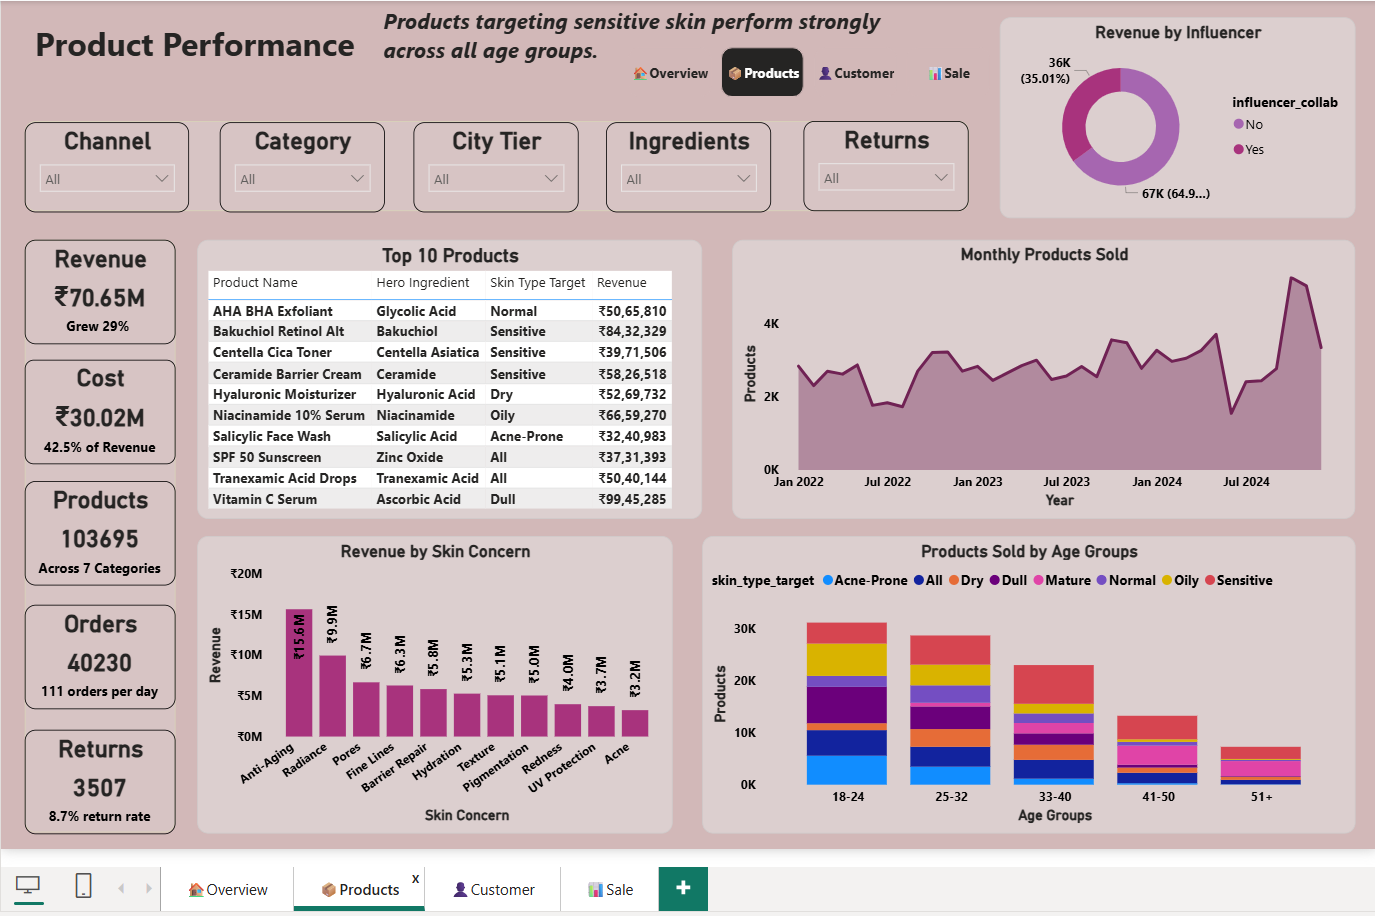

What the dashboard file says about the page in this screenshot:
{"tool":"powerbi","page":{"name":"📦Products","canvas":[1380,850],"ordinal":1},"visuals":[{"type":"areaChart","title":"Monthly Products Sold","fields":{"Y":["Measure_Analysis.Products"],"Category":["Skincare.order_date.Variation.Date Hierarchy.Year","Skincare.order_date.Variation.Date Hierarchy.Month"]},"box":[733.3,240,625,280],"z":0},{"type":"shape","box":[23.7,239.7,150.9,594.7],"z":1000},{"type":"columnChart","title":"Products Sold by Age Groups","fields":{"Category":["Skincare.age_bracket"],"Y":["Sum(Skincare.units_sold)"],"Series":["Skincare.skin_type_target"]},"box":[703.3,536.7,655,298.3],"z":2000},{"type":"donutChart","title":"Revenue by Influencer","fields":{"Category":["Skincare.influencer_collab"],"Y":["Measure_Analysis.Products"]},"box":[1002,16.9,356.5,201.3],"z":3000},{"type":"tableEx","title":"Top 10 Products ","fields":{"Values":["Skincare.product_name","Skincare.hero_ingredient","Skincare.skin_type_target","Measure_Analysis.Revenue"]},"box":[196.7,240,506.7,280],"z":4000},{"type":"lineClusteredColumnComboChart","title":"Revenue by Skin Concern","fields":{"Category":["Skincare.concern_addressed"],"Y":["Measure_Analysis.Revenue"]},"box":[196.7,536.7,476.7,298.3],"z":5000},{"type":"textbox","box":[23.8,16.3,341,80.2],"z":6000},{"type":"shape","box":[23.7,119.8,946.8,90.2],"z":7000},{"type":"slicer","title":"Channel","fields":{"Values":["Skincare.channel"]},"box":[23.7,122,165,90.2],"z":8000},{"type":"slicer","title":"Category","fields":{"Values":["Skincare.category"]},"box":[219,121.3,165.7,90.2],"z":9000},{"type":"slicer","title":"City Tier","fields":{"Values":["Skincare.city_tier"]},"box":[414.2,121.3,165.7,90.2],"z":10000},{"type":"slicer","title":"Ingredients","fields":{"Values":["Skincare.hero_ingredient"]},"box":[606.6,121.3,165.7,90.2],"z":11000},{"type":"slicer","title":"Returns","fields":{"Values":["Skincare.return_flag"]},"box":[804.8,119.8,165.7,90.2],"z":12000},{"type":"pageNavigator","box":[629.3,46.4,362.3,50.1],"z":13000},{"type":"card","title":"Returns","fields":{"Values":["Measure_Analysis.Returns"]},"box":[23.7,730.8,150.9,105],"z":14000},{"type":"card","title":"Orders","fields":{"Values":["Measure_Analysis.Orders"]},"box":[23.7,605.1,150.9,105],"z":15000},{"type":"card","title":"Products","fields":{"Values":["Measure_Analysis.Products"]},"box":[23.7,480.8,150.9,105],"z":16000},{"type":"card","title":"Cost","fields":{"Values":["Measure_Analysis.Cost"]},"box":[23.7,359.5,150.9,105],"z":17000},{"type":"card","title":"Revenue","fields":{"Values":["Measure_Analysis.Revenue"]},"box":[23.7,239.7,150.9,105],"z":18000},{"type":"textbox","box":[378.6,0,531.5,71.5],"z":19000}]}

Visuals, with their boxes on the page's 1380x850 design canvas (x1, y1, x2, y2). These are canvas units, not pixel positions in the 1375x916 screenshot, which may show the page scaled, cropped or inside an application window:
"Monthly Products Sold" areaChart: rect(733, 240, 1358, 520)
shape: rect(24, 240, 175, 834)
"Products Sold by Age Groups" columnChart: rect(703, 537, 1358, 835)
"Revenue by Influencer" donutChart: rect(1002, 17, 1358, 218)
"Top 10 Products " tableEx: rect(197, 240, 703, 520)
"Revenue by Skin Concern" lineClusteredColumnComboChart: rect(197, 537, 673, 835)
textbox: rect(24, 16, 365, 96)
shape: rect(24, 120, 970, 210)
"Channel" slicer: rect(24, 122, 189, 212)
"Category" slicer: rect(219, 121, 385, 212)
"City Tier" slicer: rect(414, 121, 580, 212)
"Ingredients" slicer: rect(607, 121, 772, 212)
"Returns" slicer: rect(805, 120, 970, 210)
pageNavigator: rect(629, 46, 992, 96)
"Returns" card: rect(24, 731, 175, 836)
"Orders" card: rect(24, 605, 175, 710)
"Products" card: rect(24, 481, 175, 586)
"Cost" card: rect(24, 360, 175, 464)
"Revenue" card: rect(24, 240, 175, 345)
textbox: rect(379, 0, 910, 72)
